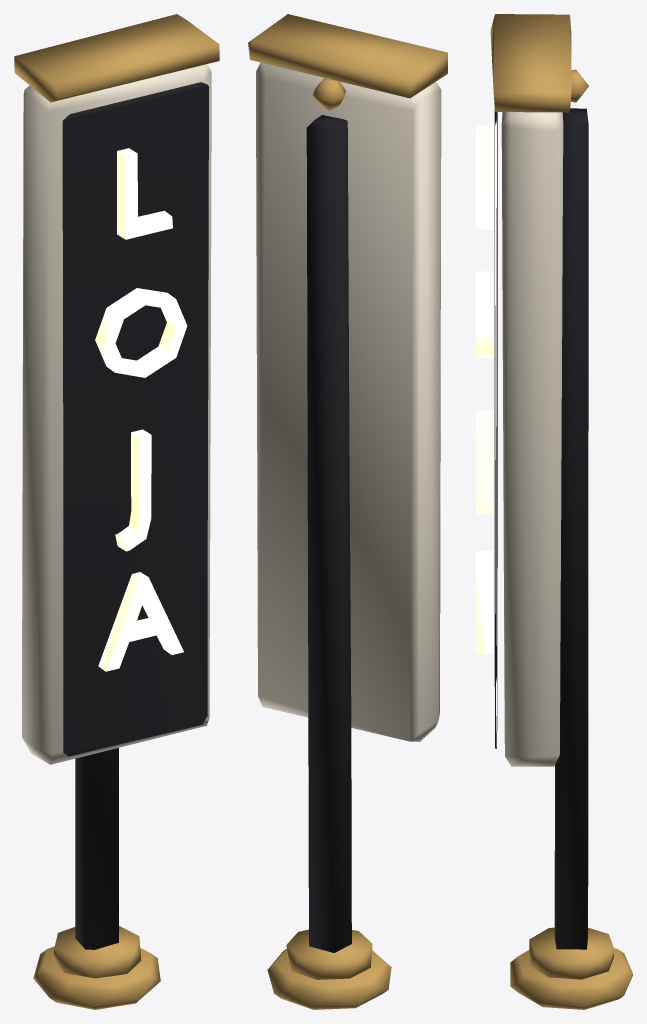
File: lod_vertical_shop_sign.glb
3 renders of one model, left to right at view 1: azimuth 30°, elevation 25°; view 2: azimuth 150°, elevation 25°; view 3: azimuth 270°, elevation 25°, orthographic. The views are drawn at different scales.
Visible parts, largest first — view 1: vertical_shop_sign; view 2: vertical_shop_sign; view 3: vertical_shop_sign.
Boxes of the visible parts, left/top/right/bottom form: vertical_shop_sign: left=14, top=14, right=219, bottom=1009; vertical_shop_sign: left=248, top=14, right=447, bottom=1009; vertical_shop_sign: left=476, top=14, right=632, bottom=1009.
Bounding box in the file's own units: 0.708 × 3.68 × 0.5605.
